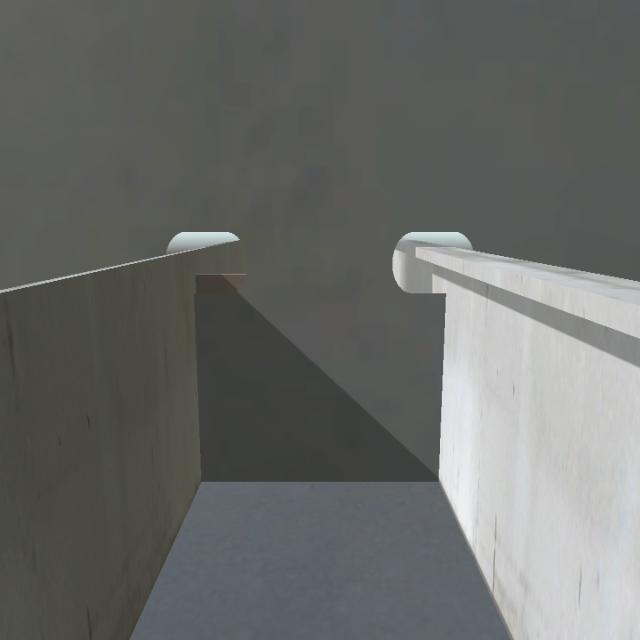fillet_yong_jeop_jang: (194, 476, 452, 490)
longi_yong_jeop_jang: (191, 276, 205, 484), (436, 290, 450, 483)
plate_behind: (196, 271, 246, 296)
